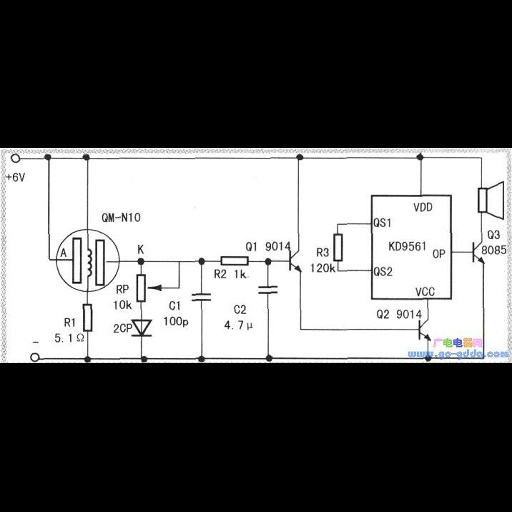capacitor: (255, 283, 280, 297), (191, 290, 214, 305)
firstresistance: (80, 299, 99, 335), (218, 253, 254, 268), (330, 232, 348, 262)
inductor: (82, 245, 95, 280)
loudspeaker: (472, 179, 507, 224)
npn: (284, 249, 308, 275), (467, 237, 487, 268), (412, 317, 432, 343)
seconddiode: (131, 316, 155, 339)
